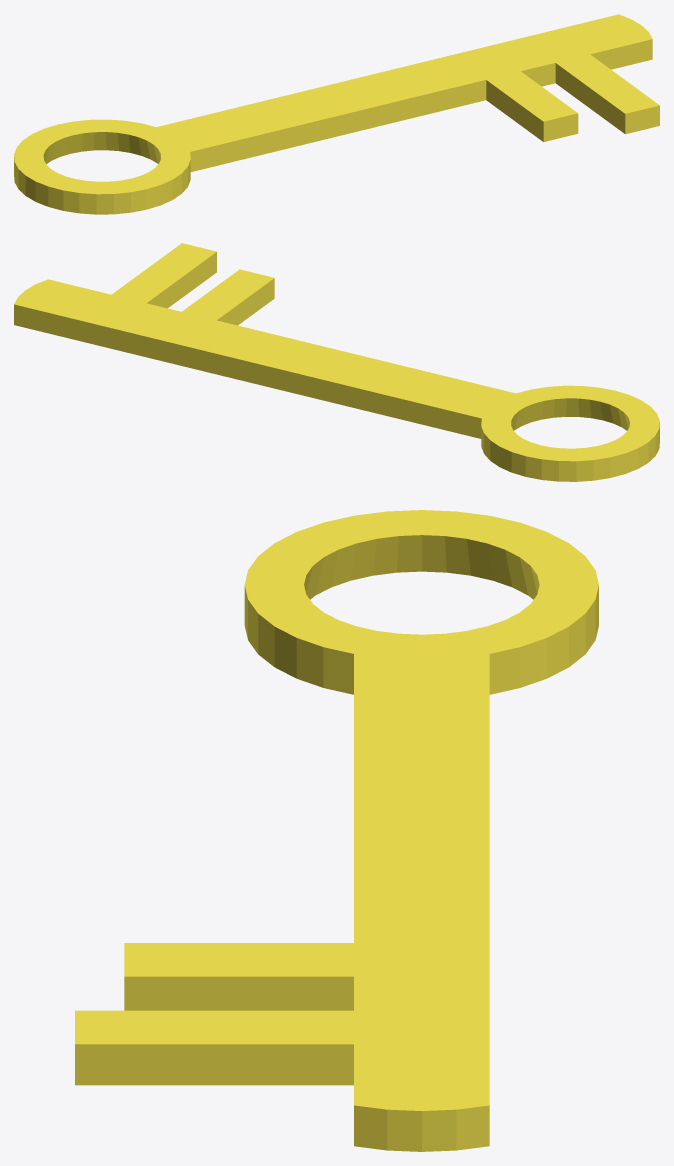
Rendered from key.fbx.
3 renders of one model, top to bottom at view 1: azimuth 30°, elevation 25°; view 2: azimuth 150°, elevation 25°; view 3: azimuth 270°, elevation 25°, orthographic. The views are drawn at different scales.
Visible parts, largest first — view 1: Cylinder; view 2: Cylinder; view 3: Cylinder.
Part boxes in pixels (box(x1,y1,x2,y2)): Cylinder: box(14, 14, 659, 214); Cylinder: box(14, 243, 659, 481); Cylinder: box(75, 510, 598, 1151).
Bounding box in the file's own units: 76.75 × 2.43 × 28.28.
